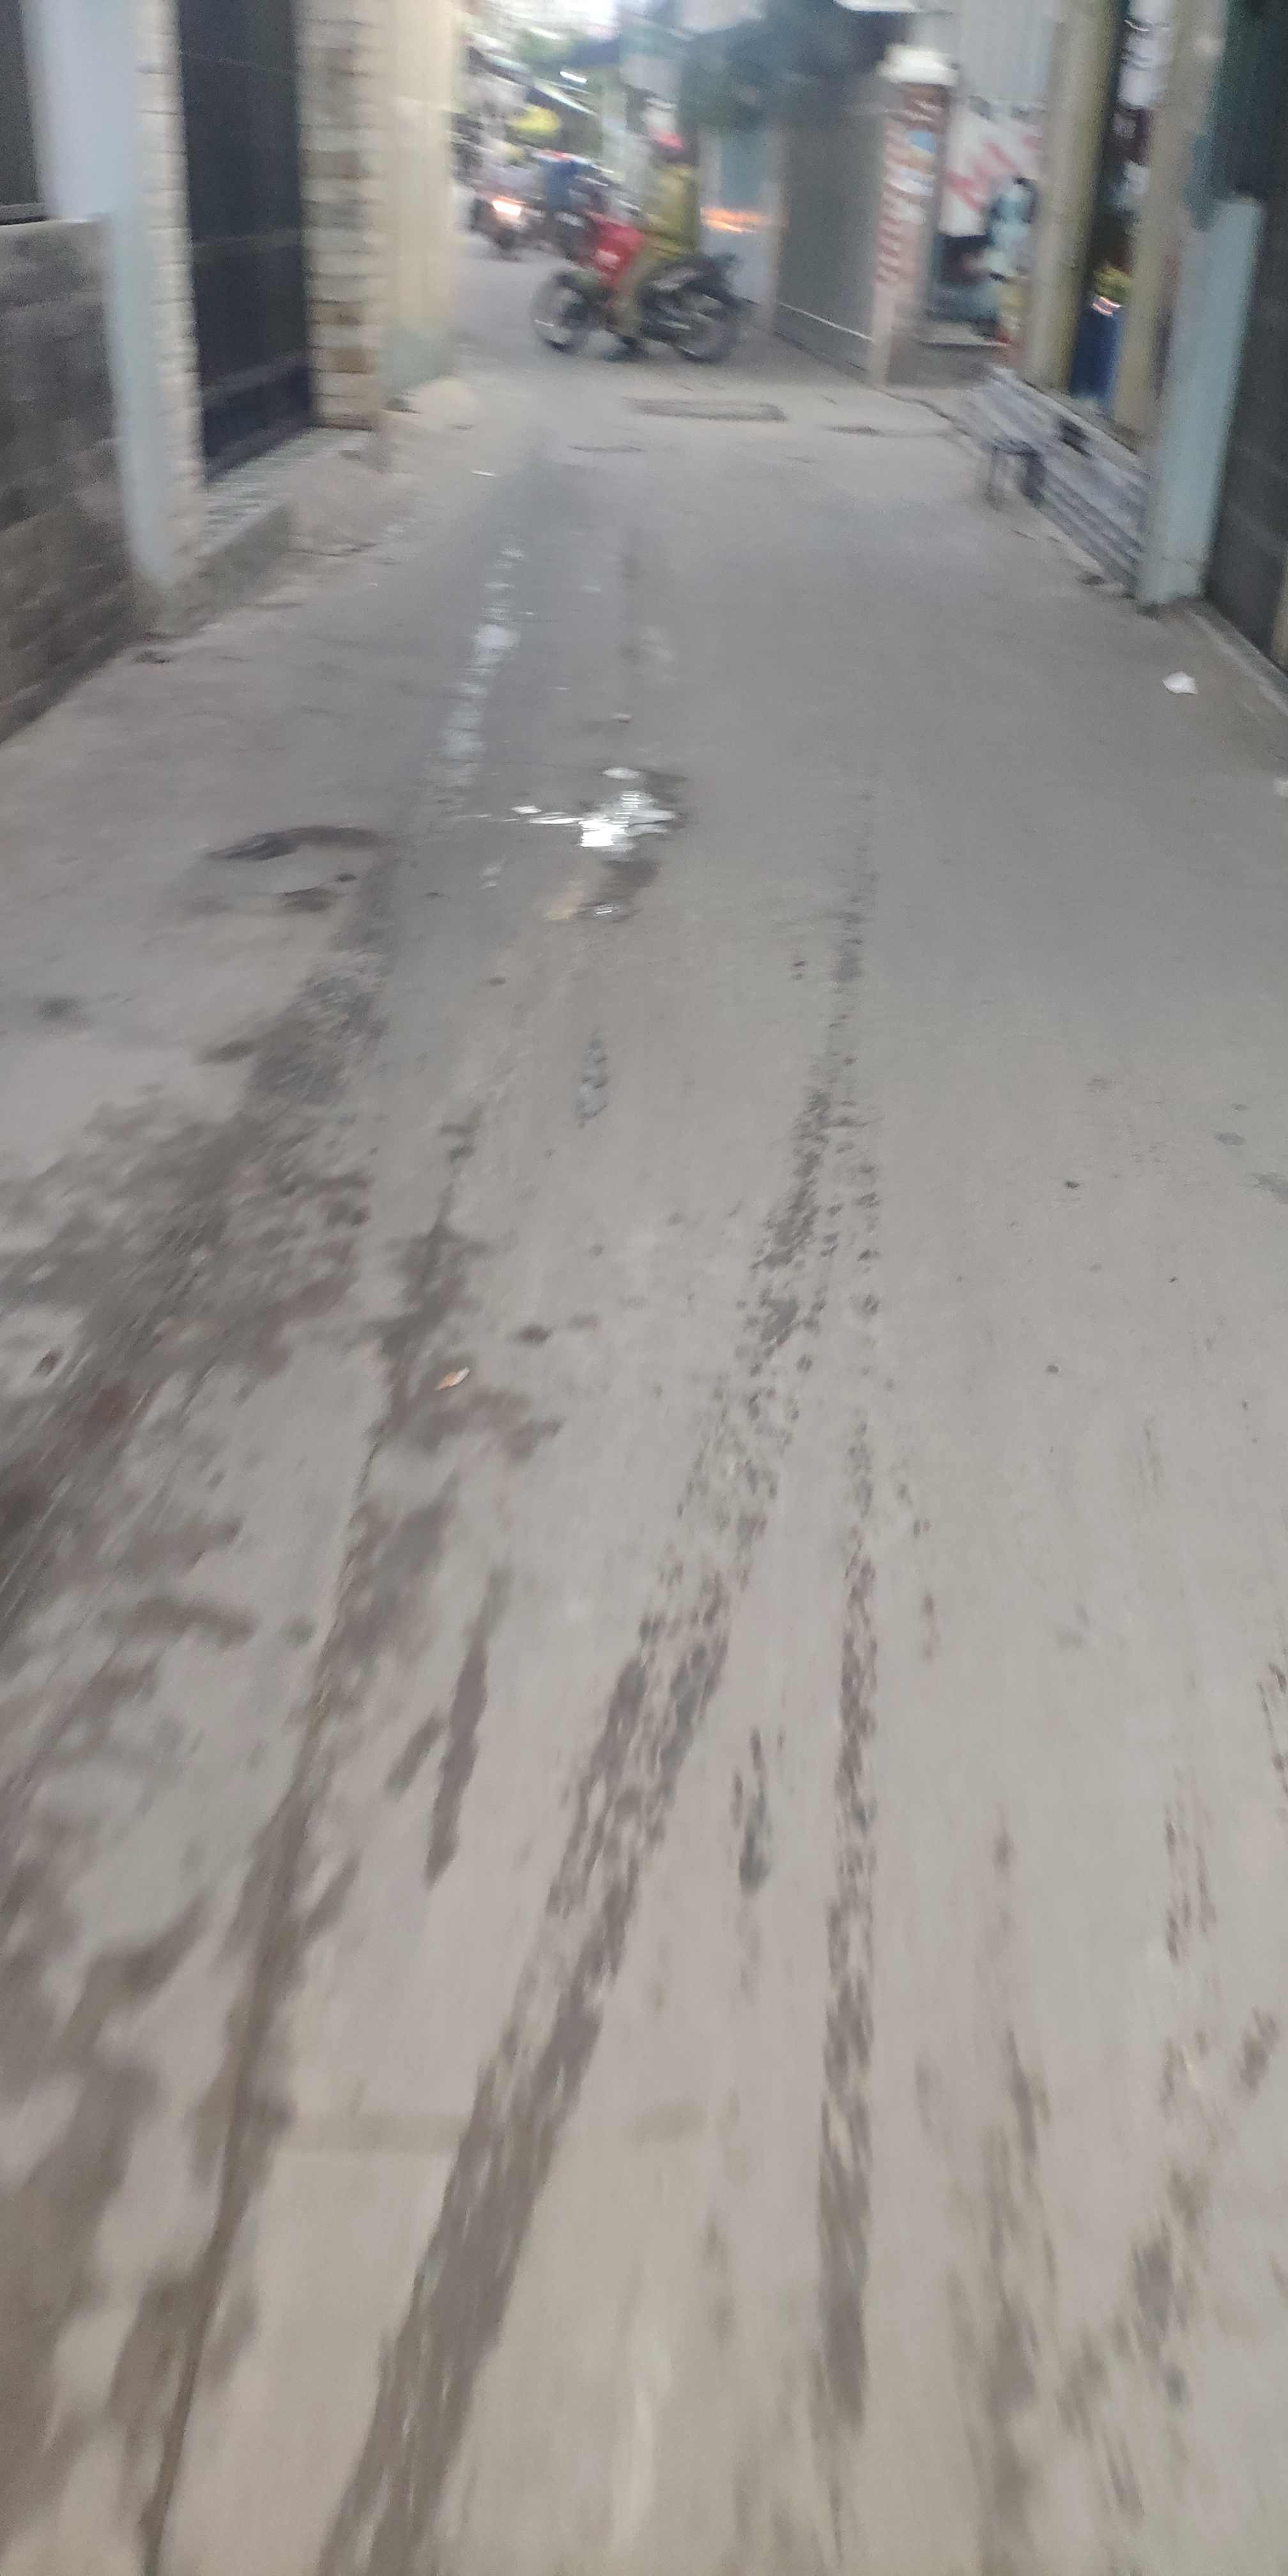hole: (177, 808, 394, 927)
